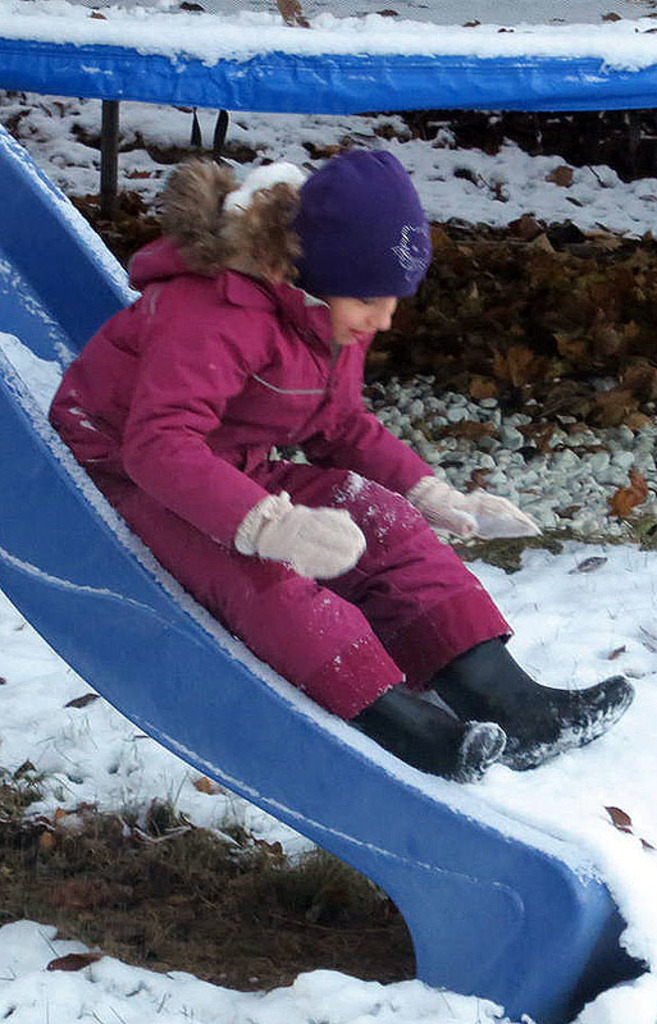Person: (46, 149, 634, 784)
